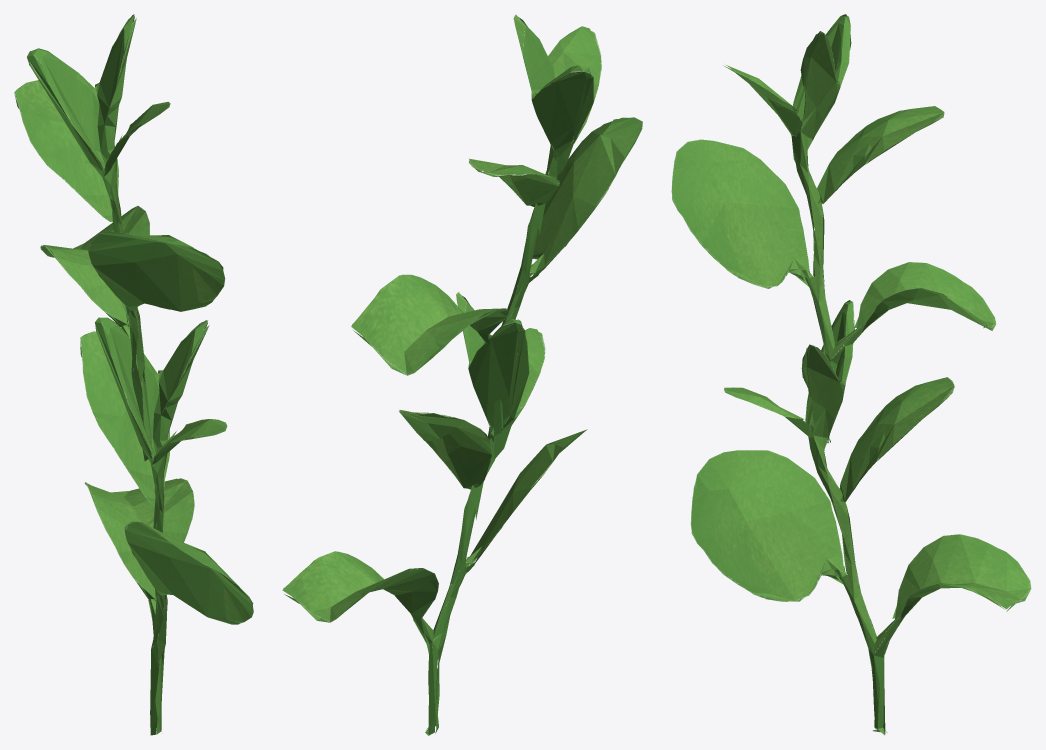
The model's file is Plant_5_Fixed.glb.
The picture shows the model from 3 angles, left to right: view 1: azimuth 30°, elevation 25°; view 2: azimuth 150°, elevation 25°; view 3: azimuth 270°, elevation 25°; orthographic projection. The views are drawn at different scales.
Parts seen in each view (by area): view 1: geometry_0.005; view 2: geometry_0.005; view 3: geometry_0.005.
Boxes of the visible parts, x1,y1,x2,y2 form: geometry_0.005: (14,14,253,735); geometry_0.005: (282,14,642,735); geometry_0.005: (671,14,1031,735).
Size of the model in its own units: 0.1048 by 0.3178 by 0.1526.
2 materials, 2 textured.
